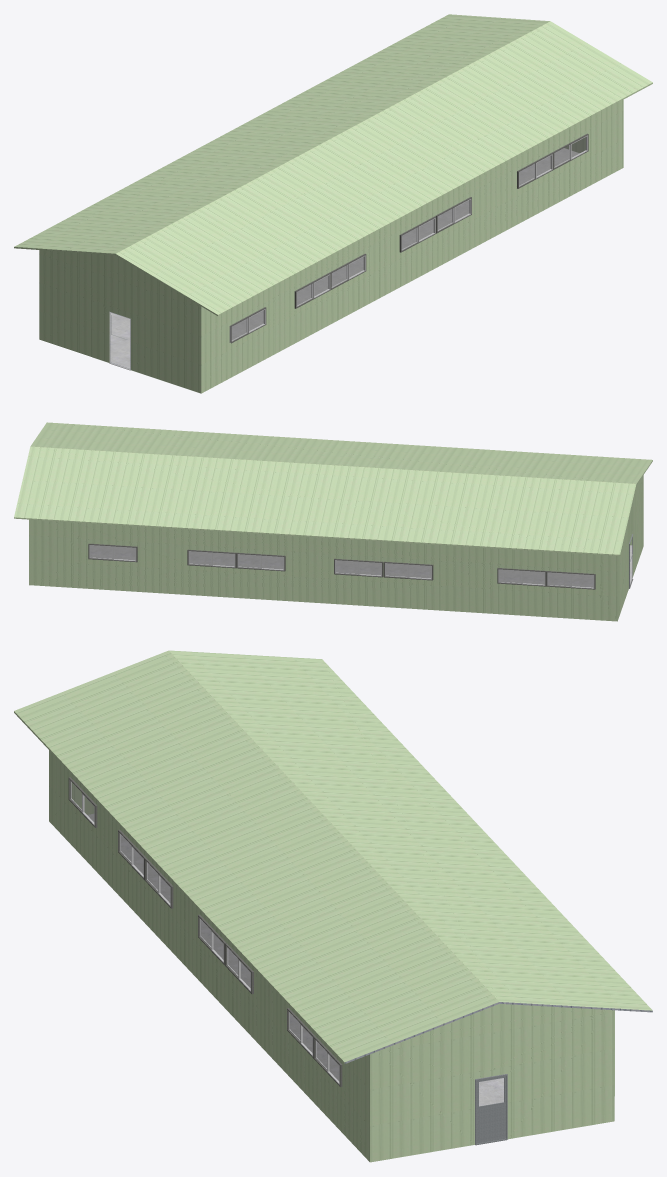
The picture shows the model from 3 angles, top to bottom: view 1: azimuth 30°, elevation 25°; view 2: azimuth 150°, elevation 25°; view 3: azimuth 270°, elevation 25°; orthographic projection. The views are drawn at different scales.
Visible parts, largest first — view 1: J棟; view 2: J棟; view 3: J棟, 元件#4.
Boxes of the visible parts, left/top/right/bottom form: J棟: left=14, top=14, right=652, bottom=393; J棟: left=14, top=422, right=652, bottom=621; J棟: left=14, top=650, right=652, bottom=1162; 元件#4: left=475, top=1074, right=507, bottom=1145.
Bounding box in the file's own units: 32.95 × 5.59 × 22.06.
Materials: 8 (6 with a texture image).
